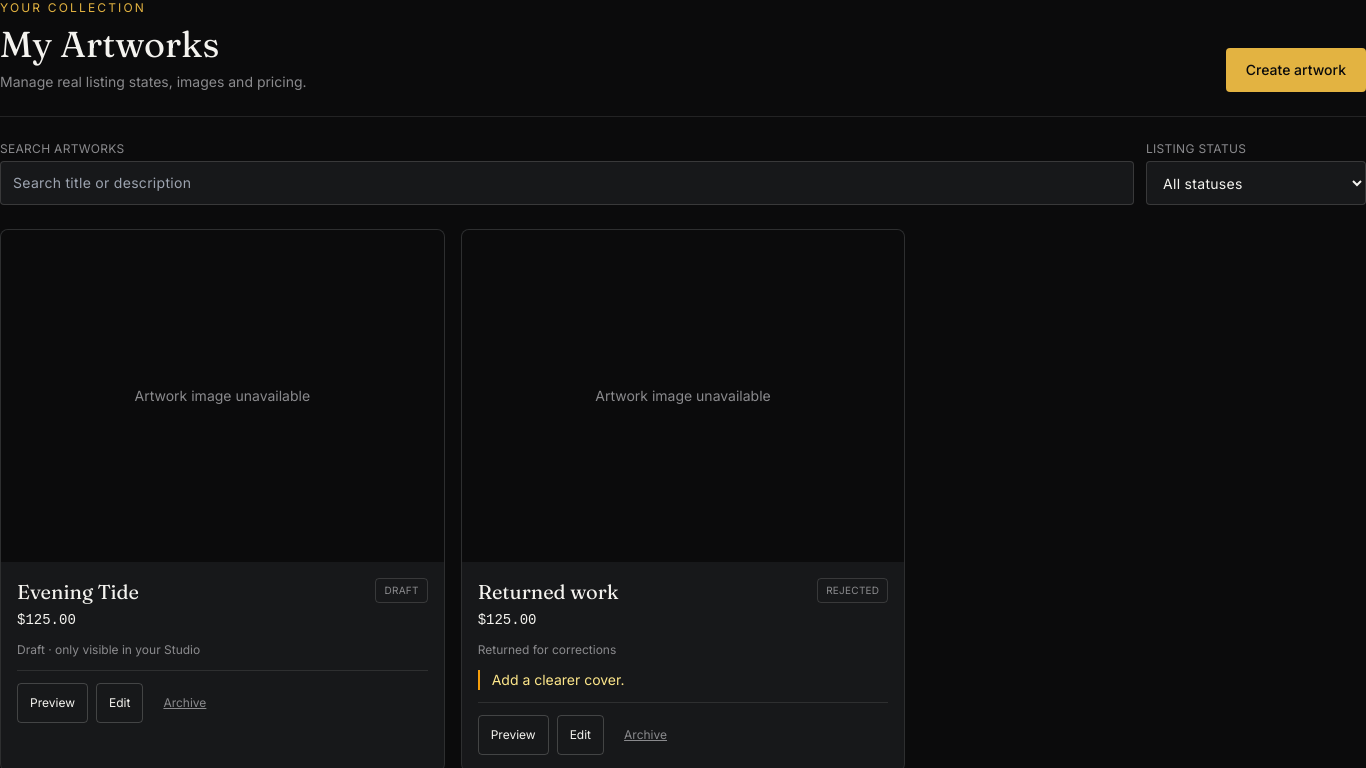
Scenario: Studio artwork management › searches and filters the real artwork collection and previews current state
The width and height of the screenshot is (1366, 768).
Expected: the heading "Evening Tide" is shown, [17,578,139,606]
Type "returned" into the field labelled "Search artworks". click: (567, 183)
box: [0,161,1134,205]
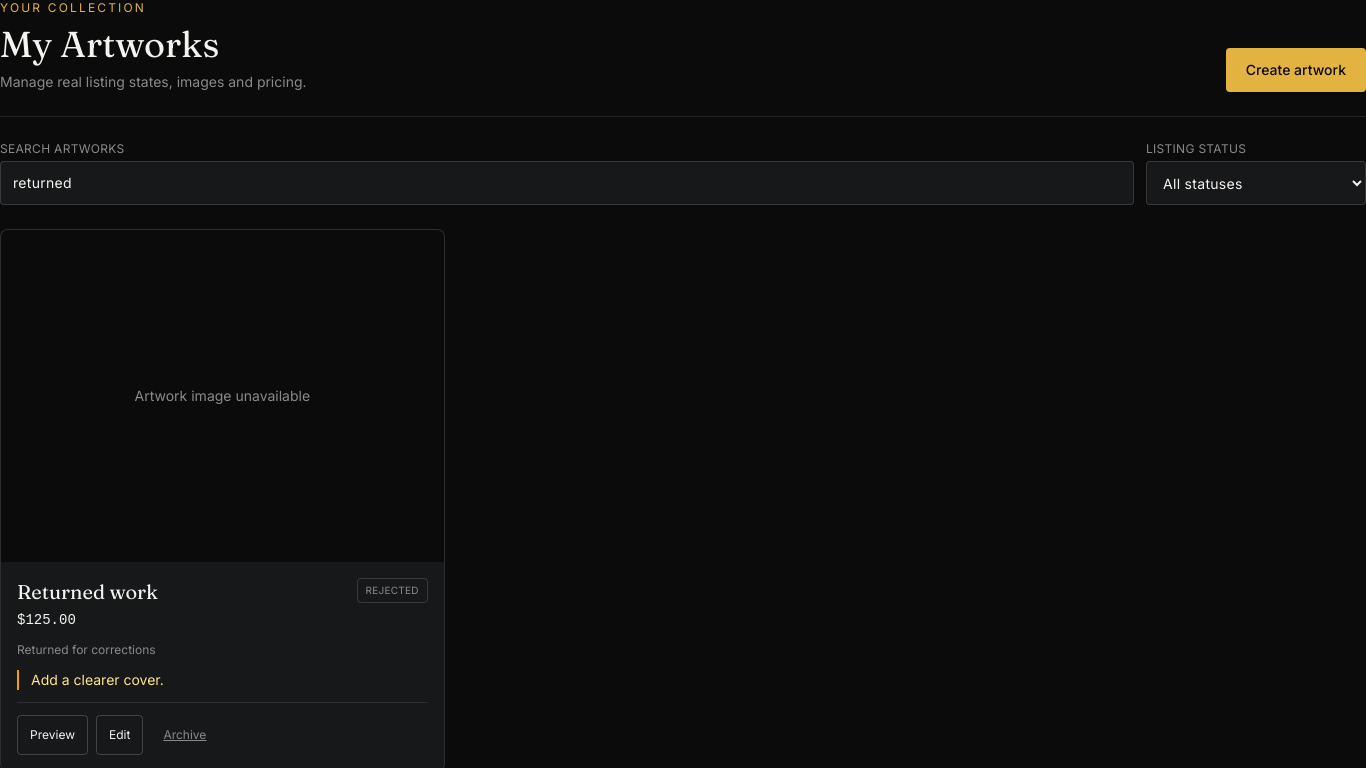
Expected: the heading "Returned work" is shown, [17,578,158,606]
Expected: the heading "Evening Tide" is gone
Select "REJECTED" in the dropdown labelled "Listing status". click: (1256, 183)
box: [1146,161,1365,205]
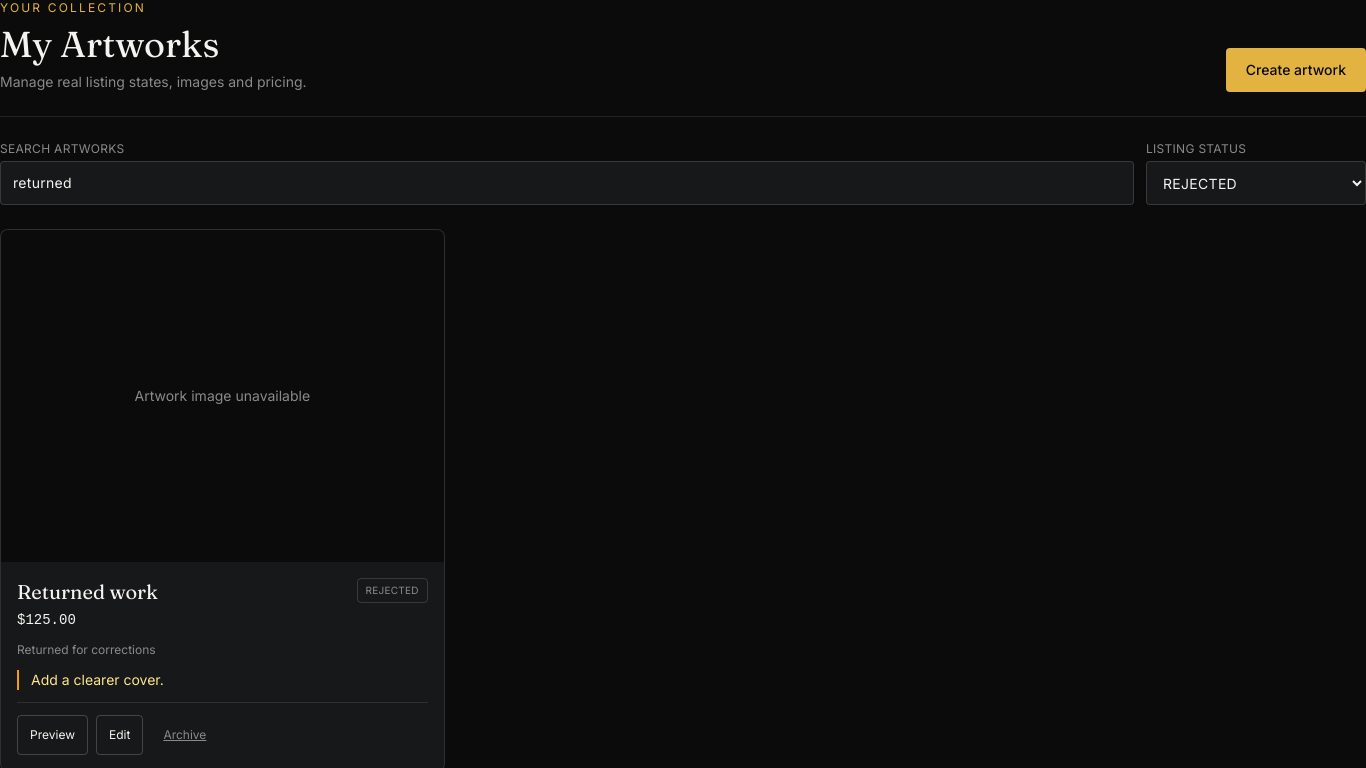
Click the button "Preview". click: (52, 735)
box: [17,715,88,755]
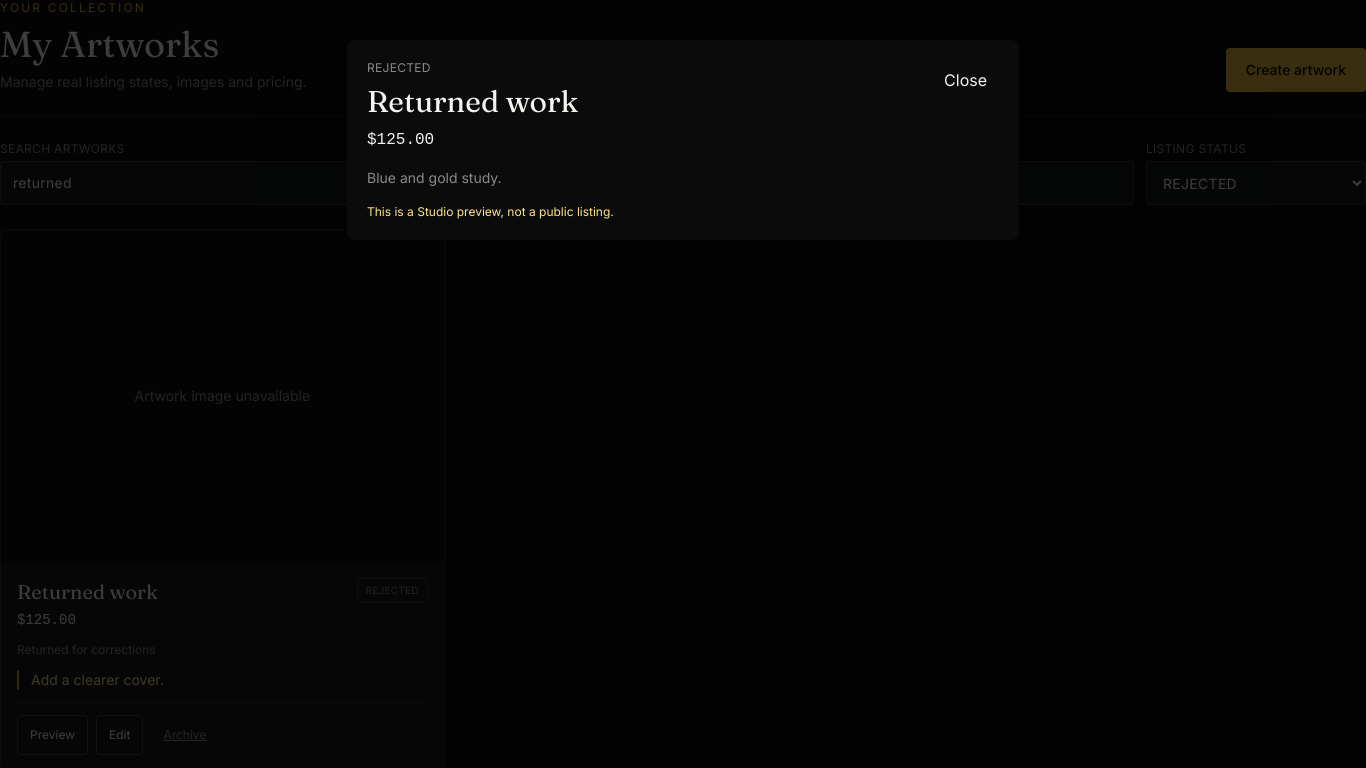
Expected: the dialog named "Artwork preview" is shown, [347,40,1019,240]
Expected: the text "This is a Studio preview, not a public listing." is shown, [367,204,614,219]
